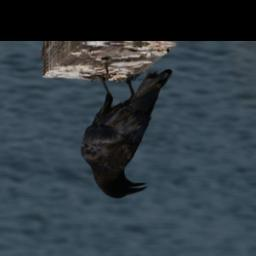Crow: (80, 65, 173, 200)
